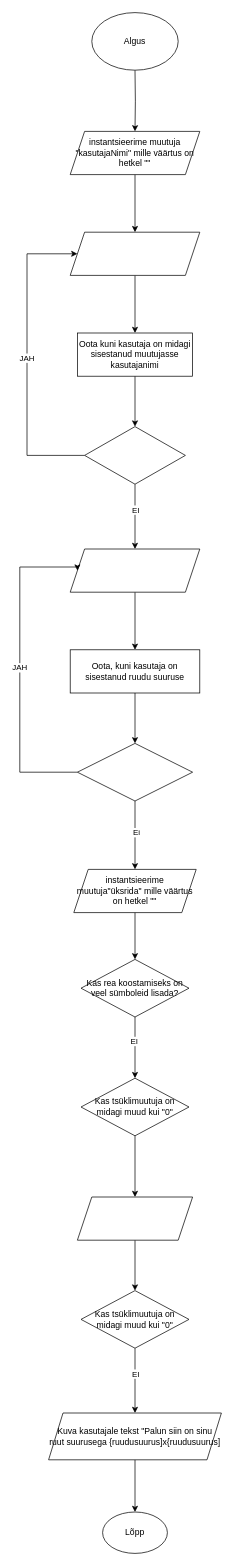
This 234x1566 diagram has some shape labels left out. Here are the shapes that lost their labels. From the top down, the box of each, then its label:
(69, 231, 200, 275): Kuva kasutajale tekst "Palun sisesta oma kasutajaNimi"
(84, 426, 185, 484): Kas kasutajanimi on midagi muud kui "user1"
(69, 548, 200, 592): Kuva kasutajale tekst "Kui suurt ruutu tahad"
(77, 743, 193, 801): Kas sisestatud ruudu suurus on väiksem kui 0 või suurem kui 20?
(77, 1196, 193, 1240): Kuva kasutajale tekst "üksrida
